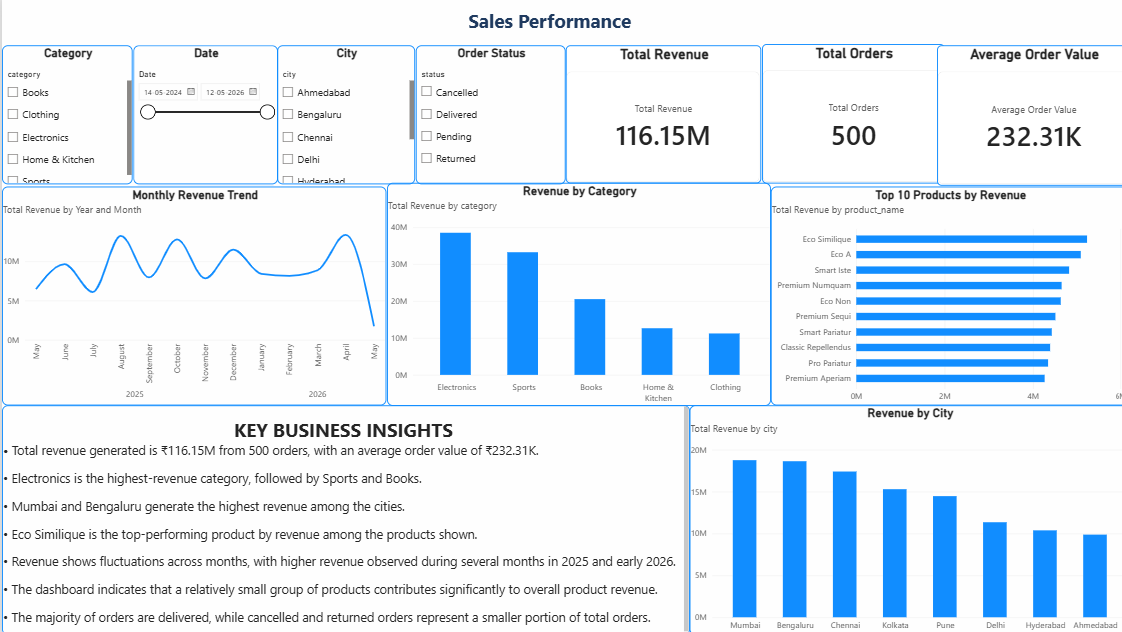

This screenshot's page, from the dashboard's own definition file:
{"tool":"powerbi","page":{"name":"Sales Performance ","canvas":[1920,1080],"ordinal":5},"visuals":[{"type":"cardVisual","title":"Total Revenue","fields":{"Data":["order_items.Total Revenue"]},"box":[959.1,77.8,333,235.3],"z":0},{"type":"cardVisual","title":"Total Orders","fields":{"Data":["orders.Total Orders"]},"box":[1293.4,76.4,311.3,237.7],"z":1000},{"type":"cardVisual","title":"Average Order Value","fields":{"Data":["orders.Average Order Value"]},"box":[1590.7,77.8,329.4,238.9],"z":2000},{"type":"lineChart","title":"Monthly Revenue Trend","fields":{"Category":["DateTable.Year","DateTable.Month"],"Y":["order_items.Total Revenue"]},"box":[0,319.4,654.6,373.1],"z":3000},{"type":"clusteredColumnChart","title":"Revenue by Category","fields":{"Category":["products.category"],"Y":["order_items.Total Revenue"]},"box":[655.1,313.1,653.3,380],"z":4000},{"type":"clusteredBarChart","title":"Top 10 Products by Revenue","fields":{"Category":["products.product_name"],"Y":["order_items.Total Revenue"]},"box":[1309.1,319.4,610.3,373.1],"z":5000},{"type":"clusteredColumnChart","title":"Revenue by City","fields":{"Category":["customers.city"],"Y":["order_items.Total Revenue"]},"box":[1170.9,691.3,749.2,390.9],"z":6000},{"type":"slicer","title":"Category","fields":{"Values":["products.category"]},"box":[0,77.8,222.6,237.1],"z":7000},{"type":"slicer","title":"Date","fields":{"Values":["DateTable.Date"]},"box":[222.6,79.6,246.1,237.1],"z":8000},{"type":"slicer","title":"City","fields":{"Values":["customers.city"]},"box":[468.7,77.8,235.3,237.1],"z":9000},{"type":"slicer","title":"Order Status","fields":{"Values":["orders.status"]},"box":[704,77.8,255.2,237.1],"z":10000},{"type":"textbox","box":[794.4,14.5,327.5,45.2],"z":11000},{"type":"textbox","box":[0,691.3,1170.9,390.9],"z":12000}]}

Visuals, with their boxes in screenshot pixels (x1, y1, x2, y2), scaled from the page's 1920x1080 canvas onto the 1122x632 screenshot:
"Total Revenue" cardVisual: BBox(560, 46, 755, 183)
"Total Orders" cardVisual: BBox(756, 45, 938, 184)
"Average Order Value" cardVisual: BBox(930, 46, 1121, 185)
"Monthly Revenue Trend" lineChart: BBox(0, 187, 383, 405)
"Revenue by Category" clusteredColumnChart: BBox(383, 183, 765, 406)
"Top 10 Products by Revenue" clusteredBarChart: BBox(765, 187, 1121, 405)
"Revenue by City" clusteredColumnChart: BBox(684, 405, 1121, 631)
"Category" slicer: BBox(0, 46, 130, 184)
"Date" slicer: BBox(130, 47, 274, 185)
"City" slicer: BBox(274, 46, 411, 184)
"Order Status" slicer: BBox(411, 46, 561, 184)
textbox: BBox(464, 8, 656, 35)
textbox: BBox(0, 405, 684, 631)
